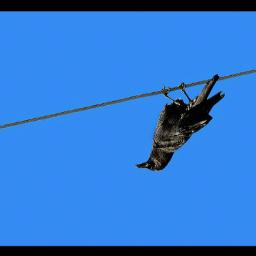Crow: (132, 74, 226, 173)
